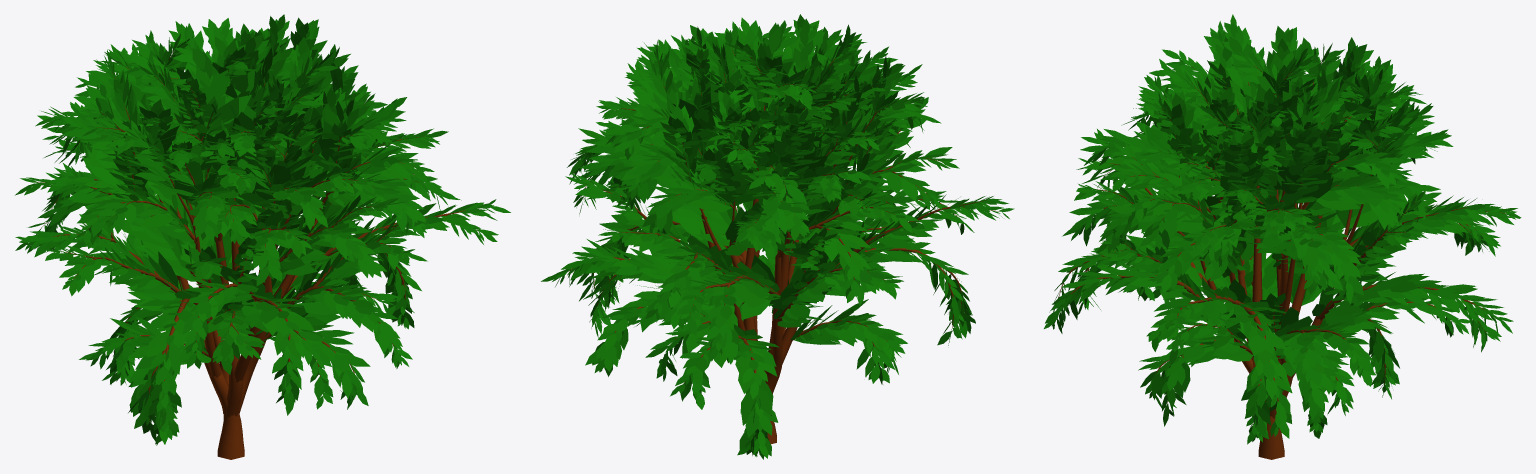
Rendered from Tree1.glb.
3 views of the same model, side by side, from view 1: azimuth 30°, elevation 25°; view 2: azimuth 150°, elevation 25°; view 3: azimuth 270°, elevation 25° (orthographic). The views are drawn at different scales.
Parts seen in each view (by area): view 1: leaves, Tree1; view 2: leaves, Tree1; view 3: leaves, Tree1.
Boxes of the visible parts, bbox=[...] form: leaves: bbox=[15, 14, 510, 445]; Tree1: bbox=[37, 53, 478, 459]; leaves: bbox=[541, 14, 1014, 459]; Tree1: bbox=[568, 47, 997, 444]; leaves: bbox=[1044, 14, 1521, 444]; Tree1: bbox=[1058, 59, 1505, 459].
Size of the model in its own units: 11.69 by 10.56 by 11.31.
